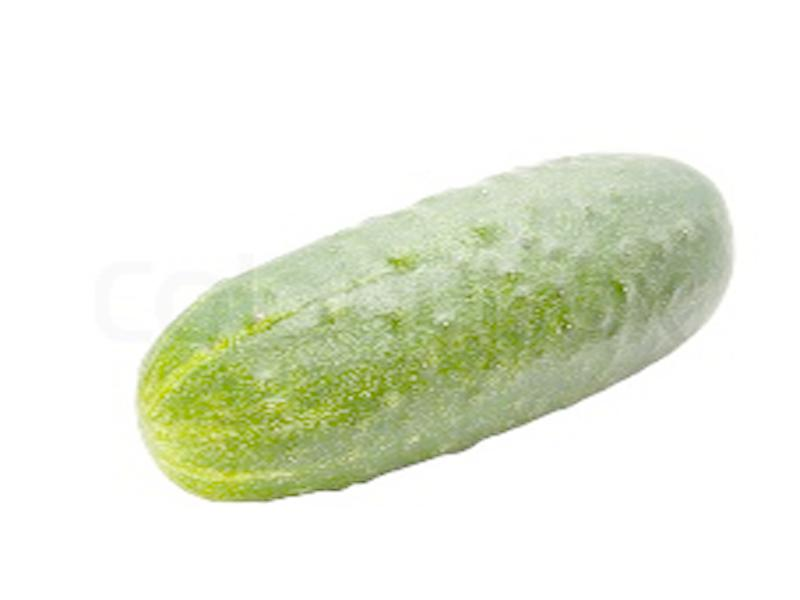Cucumber: (134, 151, 733, 497)
